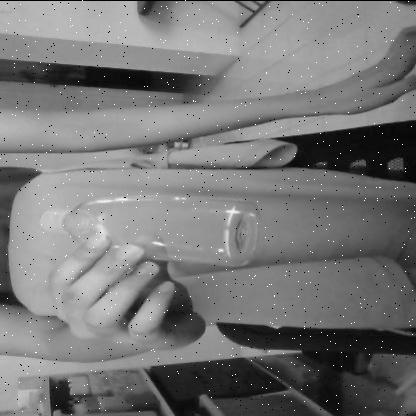Plastic Bottle: (49, 190, 265, 272)
